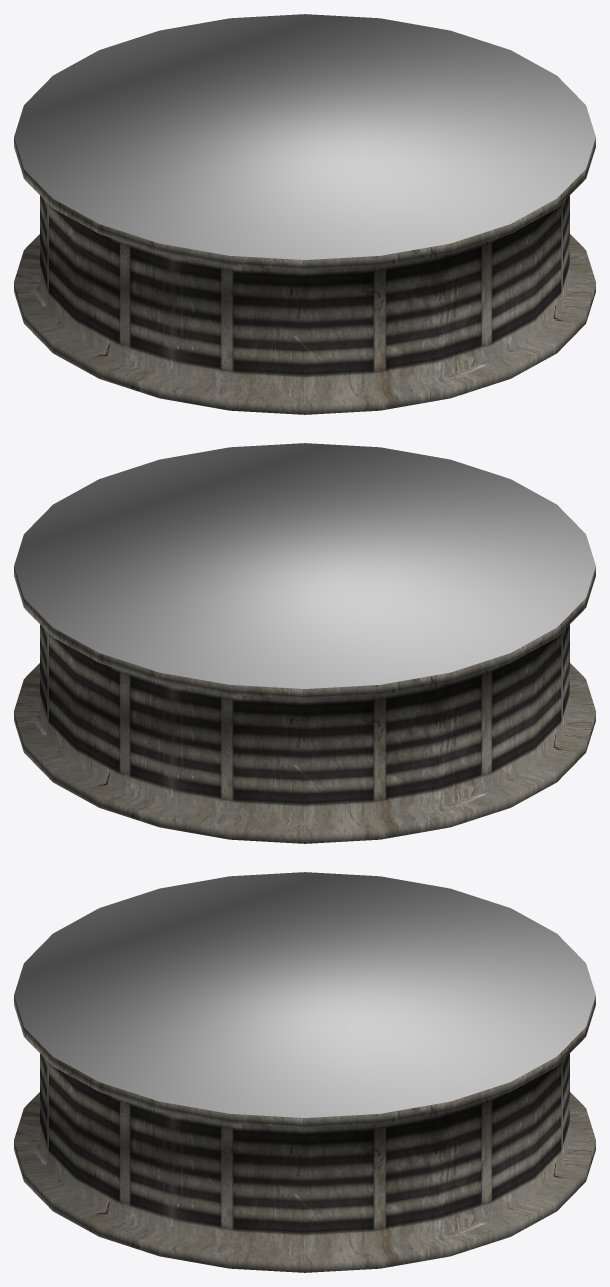
File: wheel.fbx
3 renders of one model, top to bottom at view 1: azimuth 30°, elevation 25°; view 2: azimuth 150°, elevation 25°; view 3: azimuth 270°, elevation 25°, orthographic.
Parts seen in each view (by area): view 1: Mesh; view 2: Mesh; view 3: Mesh.
Boxes of the visible parts, <box> form: Mesh: <box>14,14,595,414</box>; Mesh: <box>14,443,595,843</box>; Mesh: <box>14,872,595,1272</box>.
Bounding box in the file's own units: 67.82 × 19.9 × 67.82.
